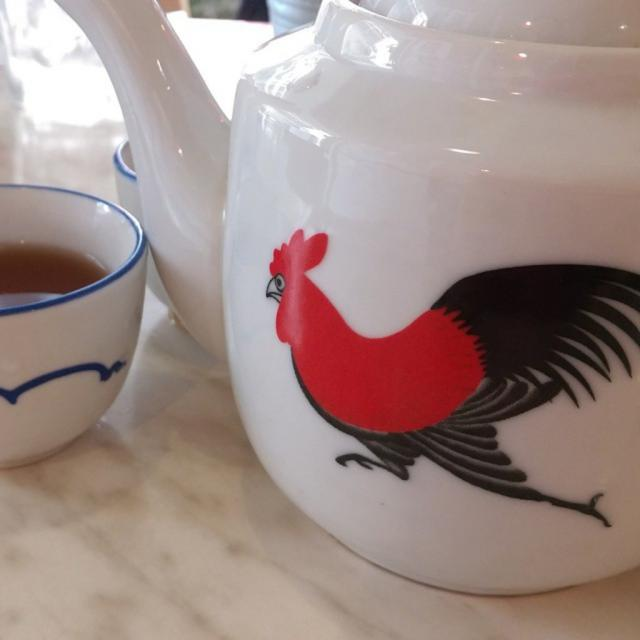Tea: (0, 237, 112, 312)
